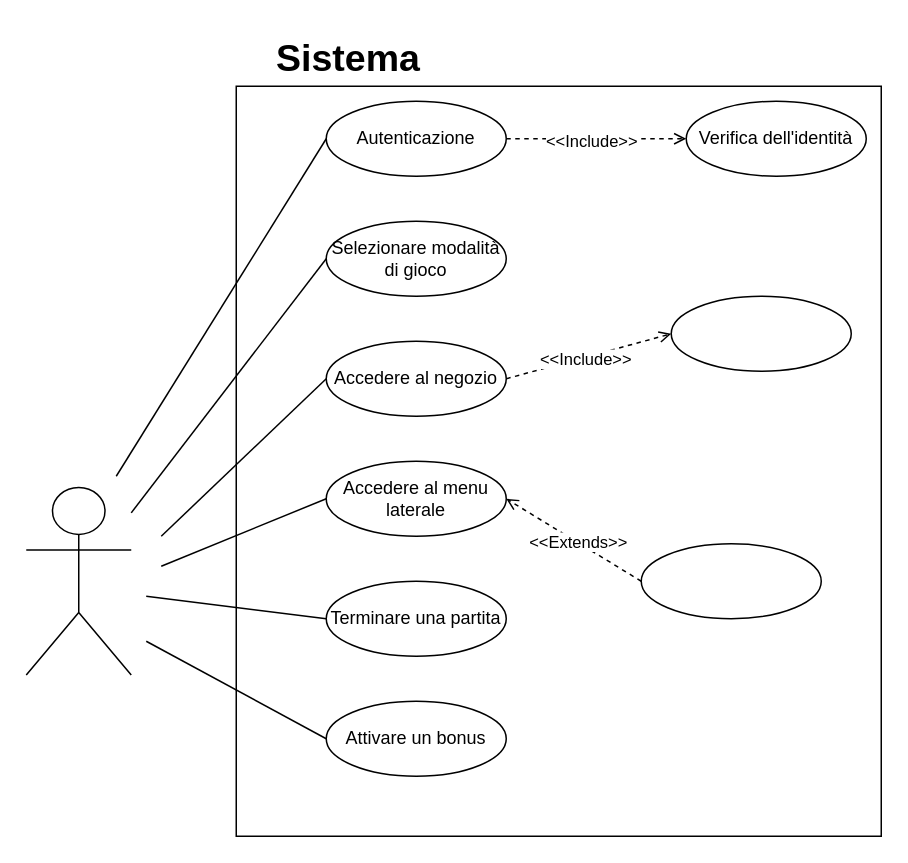
This 908x863 diagram has some shape labels left out. Here are the shapes that lost their labels. From the top down, the centre of each, then its label:
At [760,333]: "consultare i crediti".
At [78,580]: "Utente".
At [730,580]: "Consultare una classifica".
